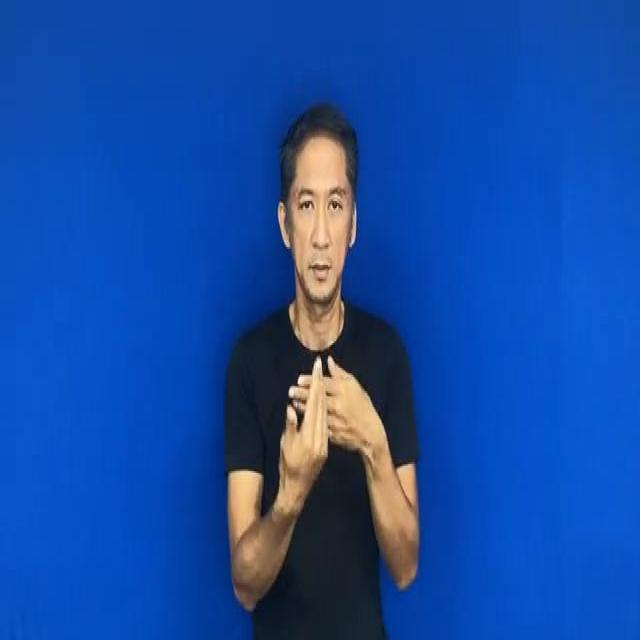bread: (277, 346, 389, 492)
